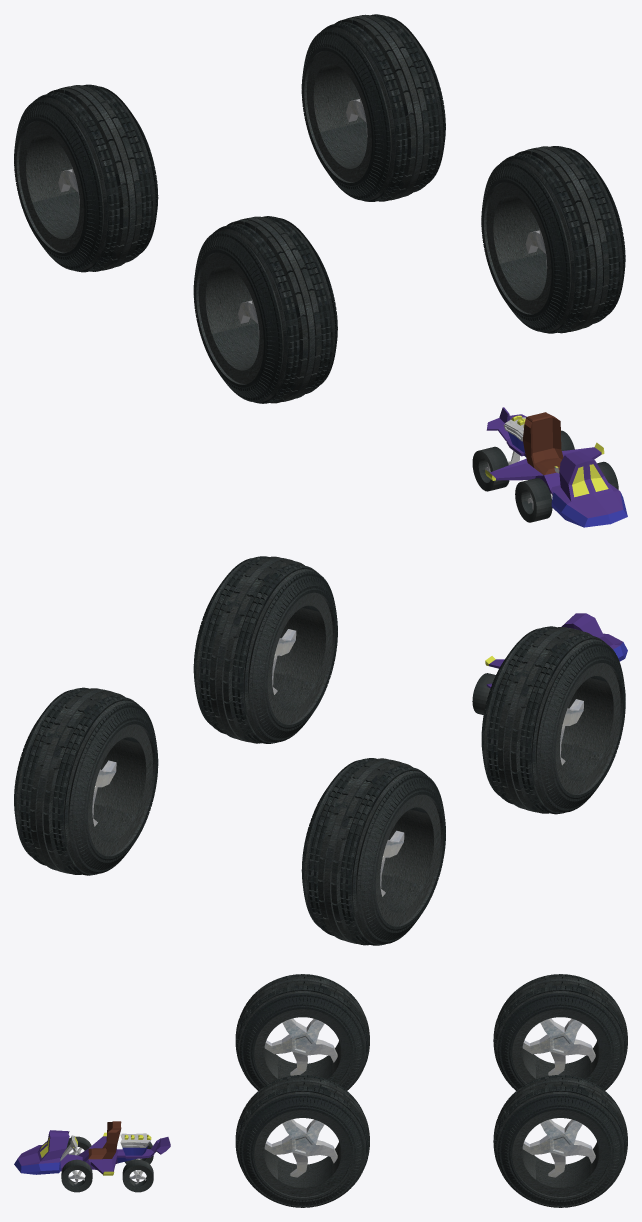
The model's file is roda_FD.fbx.
The picture shows the model from 3 angles, top to bottom: view 1: azimuth 30°, elevation 25°; view 2: azimuth 150°, elevation 25°; view 3: azimuth 270°, elevation 25°; orthographic projection. The views are drawn at different scales.
Visible parts, largest first — view 1: Plane.001, Plane.003, Plane.002, Plane.004, Cube, Cylinder.003, Cylinder.002; view 2: Plane.001, Plane.004, Plane.003, Plane.002, Cube, Cylinder.001; view 3: Plane.002, Plane.003, Plane.001, Plane.004, Cube, Cylinder.001, Cylinder.
Part boxes in pixels (box(x1,y1,x2,y2)): Plane.001: box(193, 216, 337, 403); Plane.003: box(301, 14, 445, 201); Plane.002: box(481, 146, 625, 333); Plane.004: box(14, 84, 158, 272); Cube: box(485, 407, 627, 527); Cylinder.003: box(515, 478, 552, 522); Cylinder.002: box(472, 446, 509, 491); Plane.001: box(481, 626, 625, 814); Plane.004: box(301, 758, 445, 945); Plane.003: box(14, 687, 158, 875); Plane.002: box(193, 556, 337, 743); Cube: box(485, 613, 627, 688); Cylinder.001: box(472, 673, 495, 714); Plane.002: box(235, 1075, 369, 1207); Plane.003: box(493, 1075, 627, 1207); Plane.001: box(235, 974, 369, 1090); Plane.004: box(493, 974, 627, 1090); Cube: box(14, 1121, 170, 1175); Cylinder.001: box(122, 1159, 153, 1192); Cylinder: box(61, 1159, 92, 1192).
Bounding box in the file's own units: 1759 × 965 × 3629.
